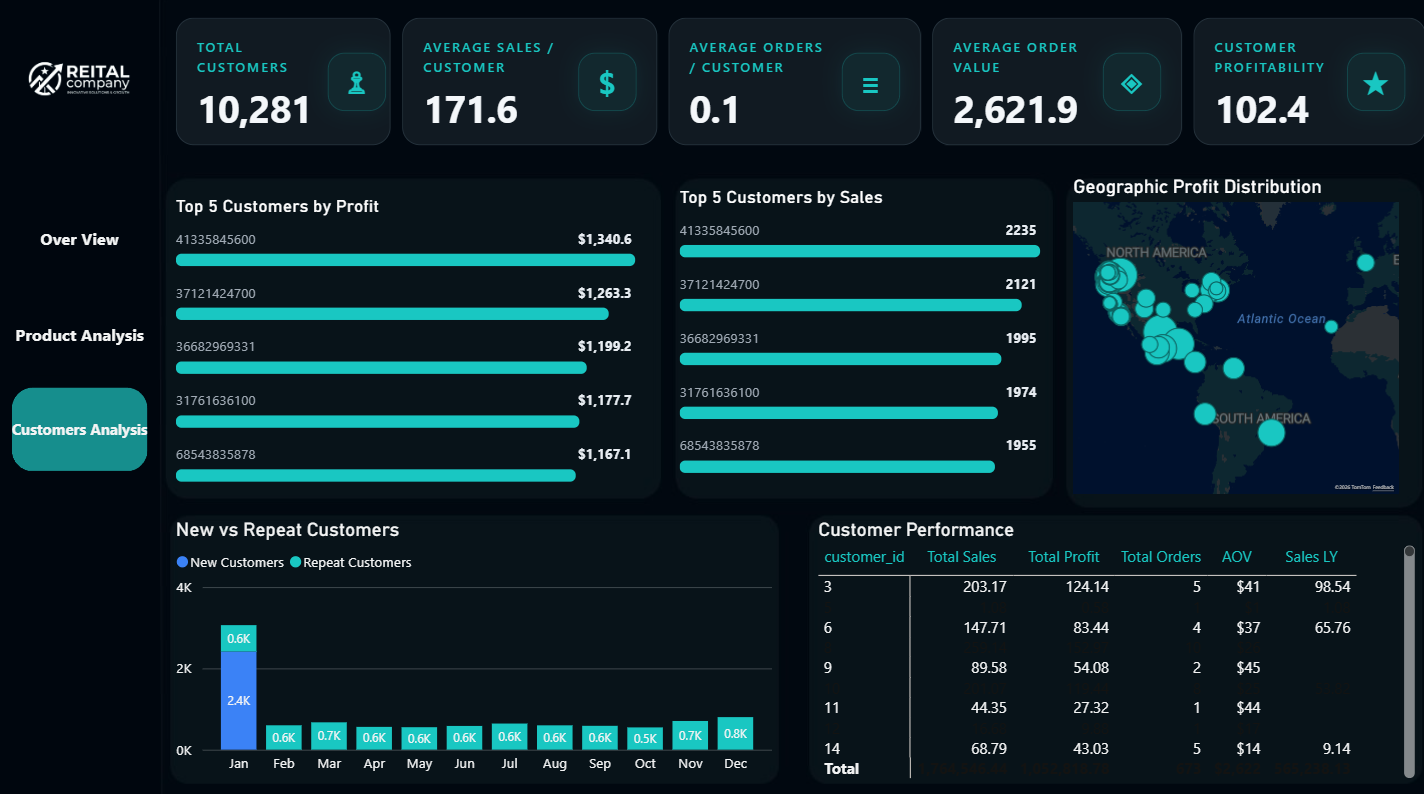

What the dashboard file says about the page in this screenshot:
{"tool":"powerbi","page":{"name":"Customers Analysis","canvas":[1280,720],"ordinal":2},"visuals":[{"type":"actionButton","box":[9.8,62.6,123.9,94.5],"z":0},{"type":"actionButton","box":[10,170,123.8,93.8],"z":1000},{"type":"actionButton","box":[8.8,292.5,123.8,93.8],"z":2000},{"type":"textbox","box":[87.1,8.6,336.2,50.3],"z":3000},{"type":"image","box":[0,0,100,50],"z":4000},{"type":"card","title":"Customers","fields":{"Values":["Dax_Measure.Customers"]},"box":[230.5,83.7,124.9,57.6],"z":5000},{"type":"image","box":[156.2,82.5,73.8,53.8],"z":6000},{"type":"card","title":"AOV","fields":{"Values":["Dax_Measure.AOV"]},"box":[470.7,83.7,124.9,57.6],"z":7000},{"type":"image","box":[387,87.8,72.7,53.5],"z":8000},{"type":"card","title":"Total Orders","fields":{"Values":["Dax_Measure.Total Orders"]},"box":[668.3,83.7,123.5,57.6],"z":9000},{"type":"image","box":[593.9,81,73.6,54],"z":10000},{"type":"card","title":"Repeat Customers","fields":{"Values":["Dax_Measure.Repeat Customers"]},"box":[872.4,83.4,142.3,57.7],"z":11000},{"type":"image","box":[798.8,81,73.6,54],"z":12000},{"type":"columnChart","title":"Top 10 Customers By Sales","fields":{"Category":["Customers.customer_id"],"Y":["Dax_Measure.Total Sales"]},"box":[146,193.9,348.5,191.4],"z":13000},{"type":"map","fields":{"Category":["Customers.customer_city"],"Size":["Dax_Measure.Total Orders"]},"box":[710.4,428.2,495.7,267.5],"z":14000},{"type":"donutChart","title":"Top 5 Regions By Profit","fields":{"Category":["Region.sales_region"],"Y":["Dax_Measure.Total Profit"]},"box":[897.4,193.5,340.3,192.1],"z":15000},{"type":"card","title":"ARPC","fields":{"Values":["Dax_Measure.Average Revenue per Customer"]},"box":[1090.9,83.7,146.8,57.6],"z":16000},{"type":"image","box":[1037.4,76.8,61.7,52.1],"z":17000},{"type":"slicer","fields":{"Values":["Dim_Date.Year"]},"box":[949.7,0,282.2,77.3],"z":18000},{"type":"lineChart","title":"Total Orders BY month","fields":{"Category":["Dim_Date.MonthName"],"Y":["Dax_Measure.Total Orders"]},"box":[169.3,438,499.4,257.7],"z":19000},{"type":"clusteredColumnChart","title":"Average Order Value by City","fields":{"Category":["Region.sales_district"],"Y":["Dax_Measure.AOV"]},"box":[494,183.9,378.7,215.4],"z":20000}]}

Visuals, with their boxes in screenshot pixels (x1, y1, x2, y2), scaled from the page's 1280x720 canvas onto the 1424x794 screenshot:
actionButton: [left=11, top=69, right=149, bottom=173]
actionButton: [left=11, top=187, right=149, bottom=291]
actionButton: [left=10, top=323, right=148, bottom=426]
textbox: [left=97, top=9, right=471, bottom=65]
image: [left=0, top=0, right=111, bottom=55]
"Customers" card: [left=256, top=92, right=395, bottom=156]
image: [left=174, top=91, right=256, bottom=150]
"AOV" card: [left=524, top=92, right=663, bottom=156]
image: [left=431, top=97, right=511, bottom=156]
"Total Orders" card: [left=743, top=92, right=881, bottom=156]
image: [left=661, top=89, right=743, bottom=149]
"Repeat Customers" card: [left=971, top=92, right=1129, bottom=156]
image: [left=889, top=89, right=971, bottom=149]
"Top 10 Customers By Sales" columnChart: [left=162, top=214, right=550, bottom=425]
map - Customers.customer_city x Dax_Measure.Total Orders: [left=790, top=472, right=1342, bottom=767]
"Top 5 Regions By Profit" donutChart: [left=998, top=213, right=1377, bottom=425]
"ARPC" card: [left=1214, top=92, right=1377, bottom=156]
image: [left=1154, top=85, right=1223, bottom=142]
slicer - Dim_Date.Year: [left=1057, top=0, right=1370, bottom=85]
"Total Orders BY month" lineChart: [left=188, top=483, right=744, bottom=767]
"Average Order Value by City" clusteredColumnChart: [left=550, top=203, right=971, bottom=440]
